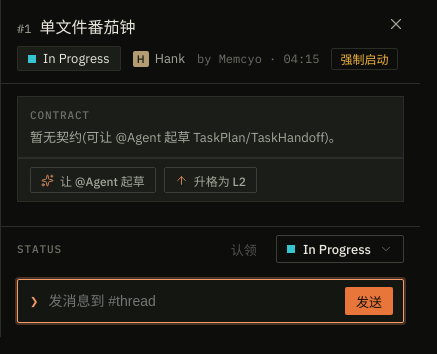
Test: ThreadPanel 契约卡(M3 B-M3-1 真渲染) › "让 @Agent 起草"入口:列出 memberById 里 kind=agent 的候选 × TaskPlan/TaskHandoff
The image size is (437, 354).
Step 1. Click the button "让 @Agent 起草" → {"x": 93, "y": 180}, box [30,167,156,193]
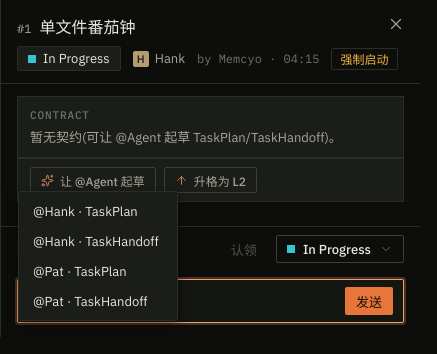
Expected: the text "@Hank · TaskPlan" is shown, [33,202,138,220]
Expected: the text "@Hank · TaskHandoff" is shown, [33,232,159,250]
Expected: the text "@Pat · TaskPlan" is shown, [33,262,127,280]
